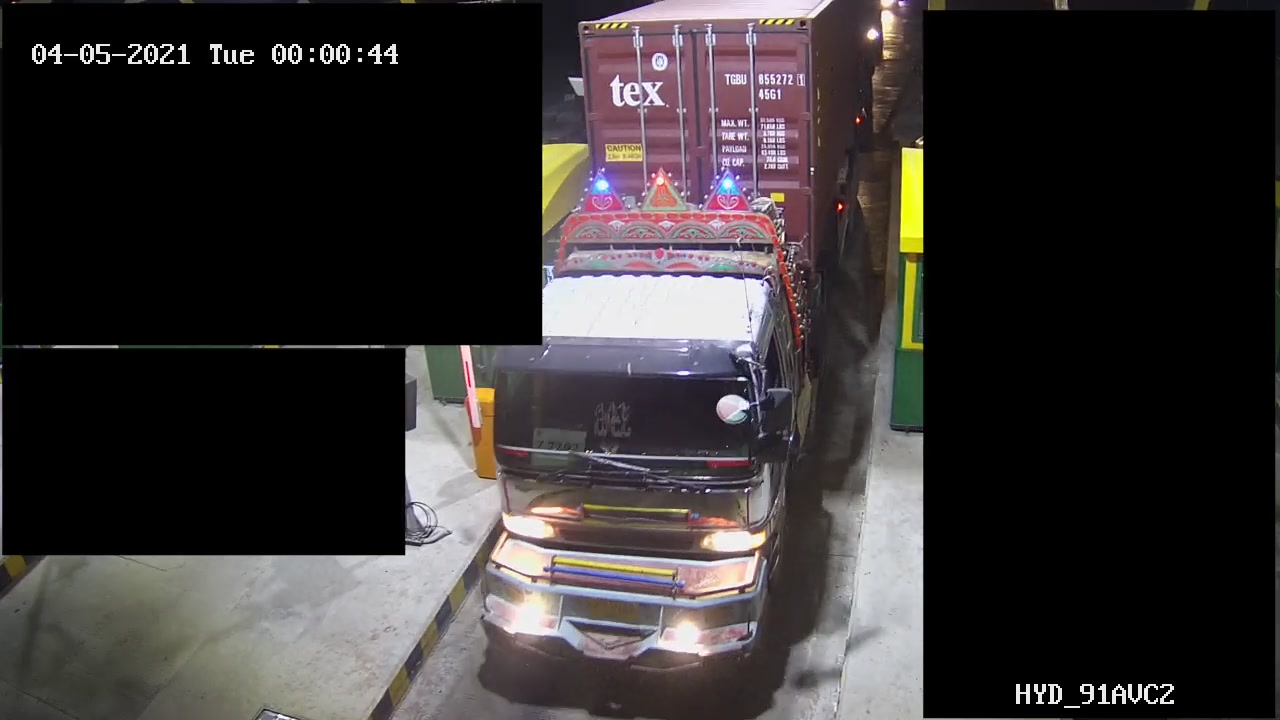F6: (473, 1, 883, 687)
